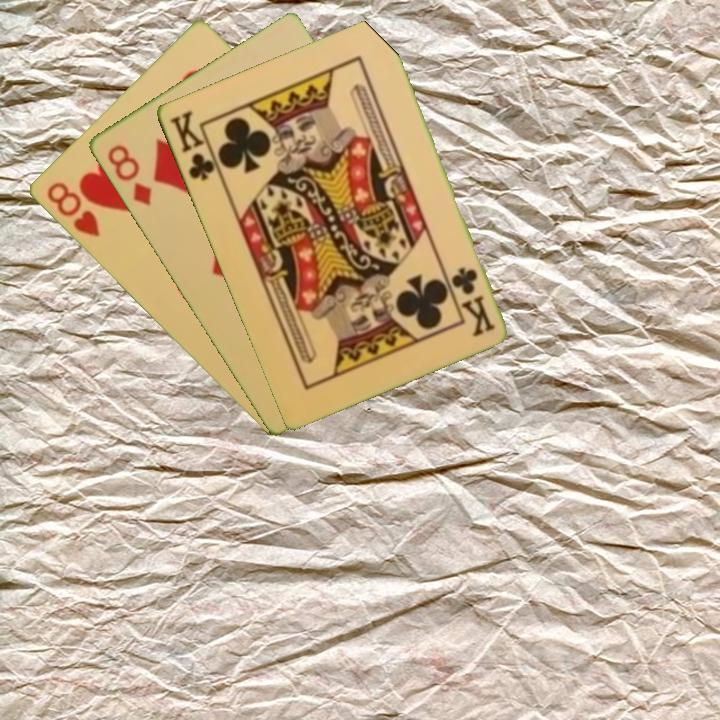8d: (103, 140, 154, 209)
8h: (42, 178, 103, 240)
Kc: (165, 106, 223, 184), (449, 263, 498, 338)
